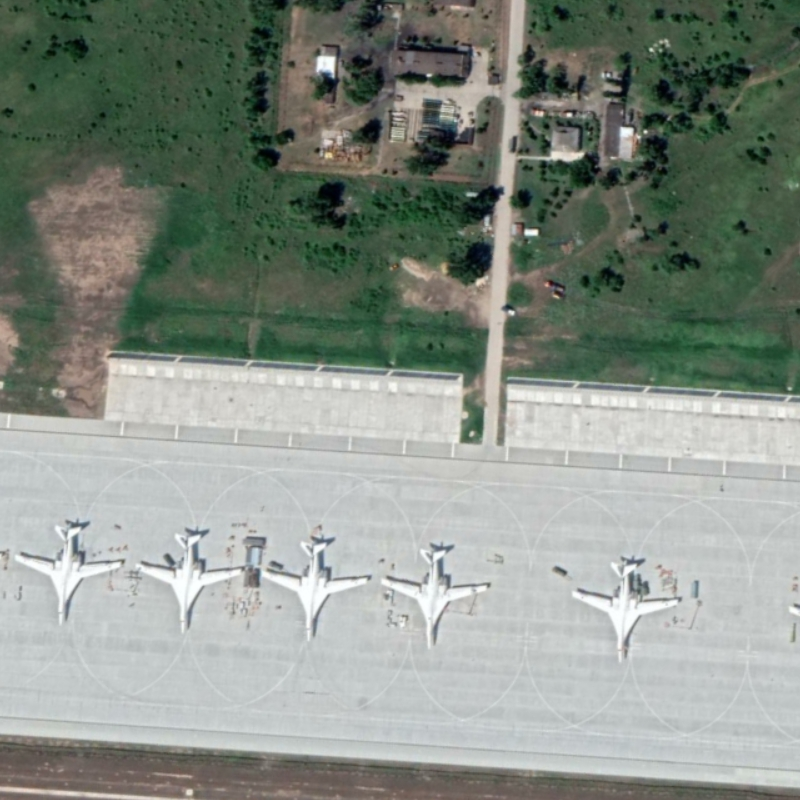A6: (9, 517, 129, 630), (567, 558, 689, 668), (134, 529, 249, 638), (381, 545, 495, 653), (260, 536, 373, 639)
